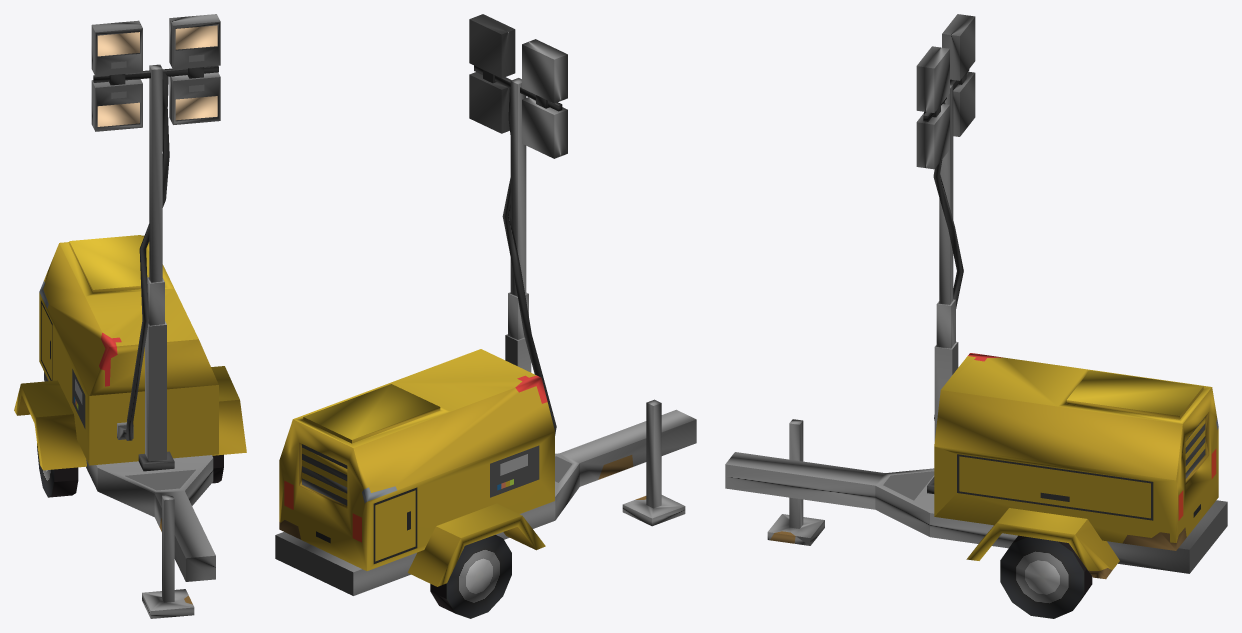
Rendered from apoc_prop_2.glb.
The picture shows the model from 3 angles, left to right: view 1: azimuth 30°, elevation 25°; view 2: azimuth 150°, elevation 25°; view 3: azimuth 270°, elevation 25°; orthographic projection.
Parts seen in each view (by area): view 1: prop_002; view 2: prop_002; view 3: prop_002.
Part boxes in pixels (box(x1,y1,x2,y2)): prop_002: box(14, 14, 246, 618); prop_002: box(275, 14, 696, 618); prop_002: box(725, 14, 1227, 618).
Bounding box in the file's own units: 0.3942 × 0.8561 × 0.7452.
1 material, 1 textured.
